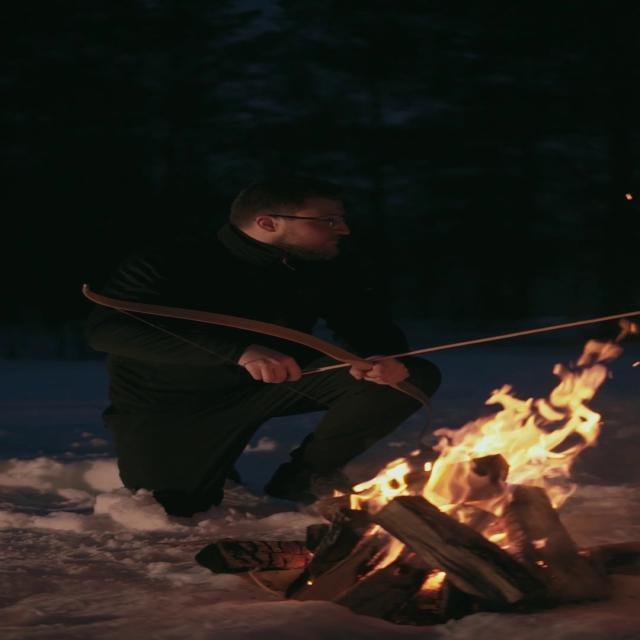Fire: (364, 342, 636, 576)
